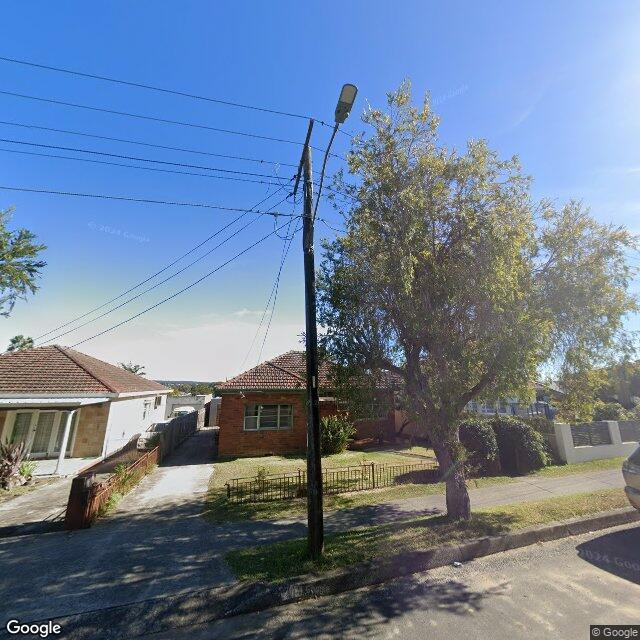crossarm: (291, 119, 316, 198)
streetlight: (306, 83, 359, 248)
timber-pole: (302, 143, 326, 556)
